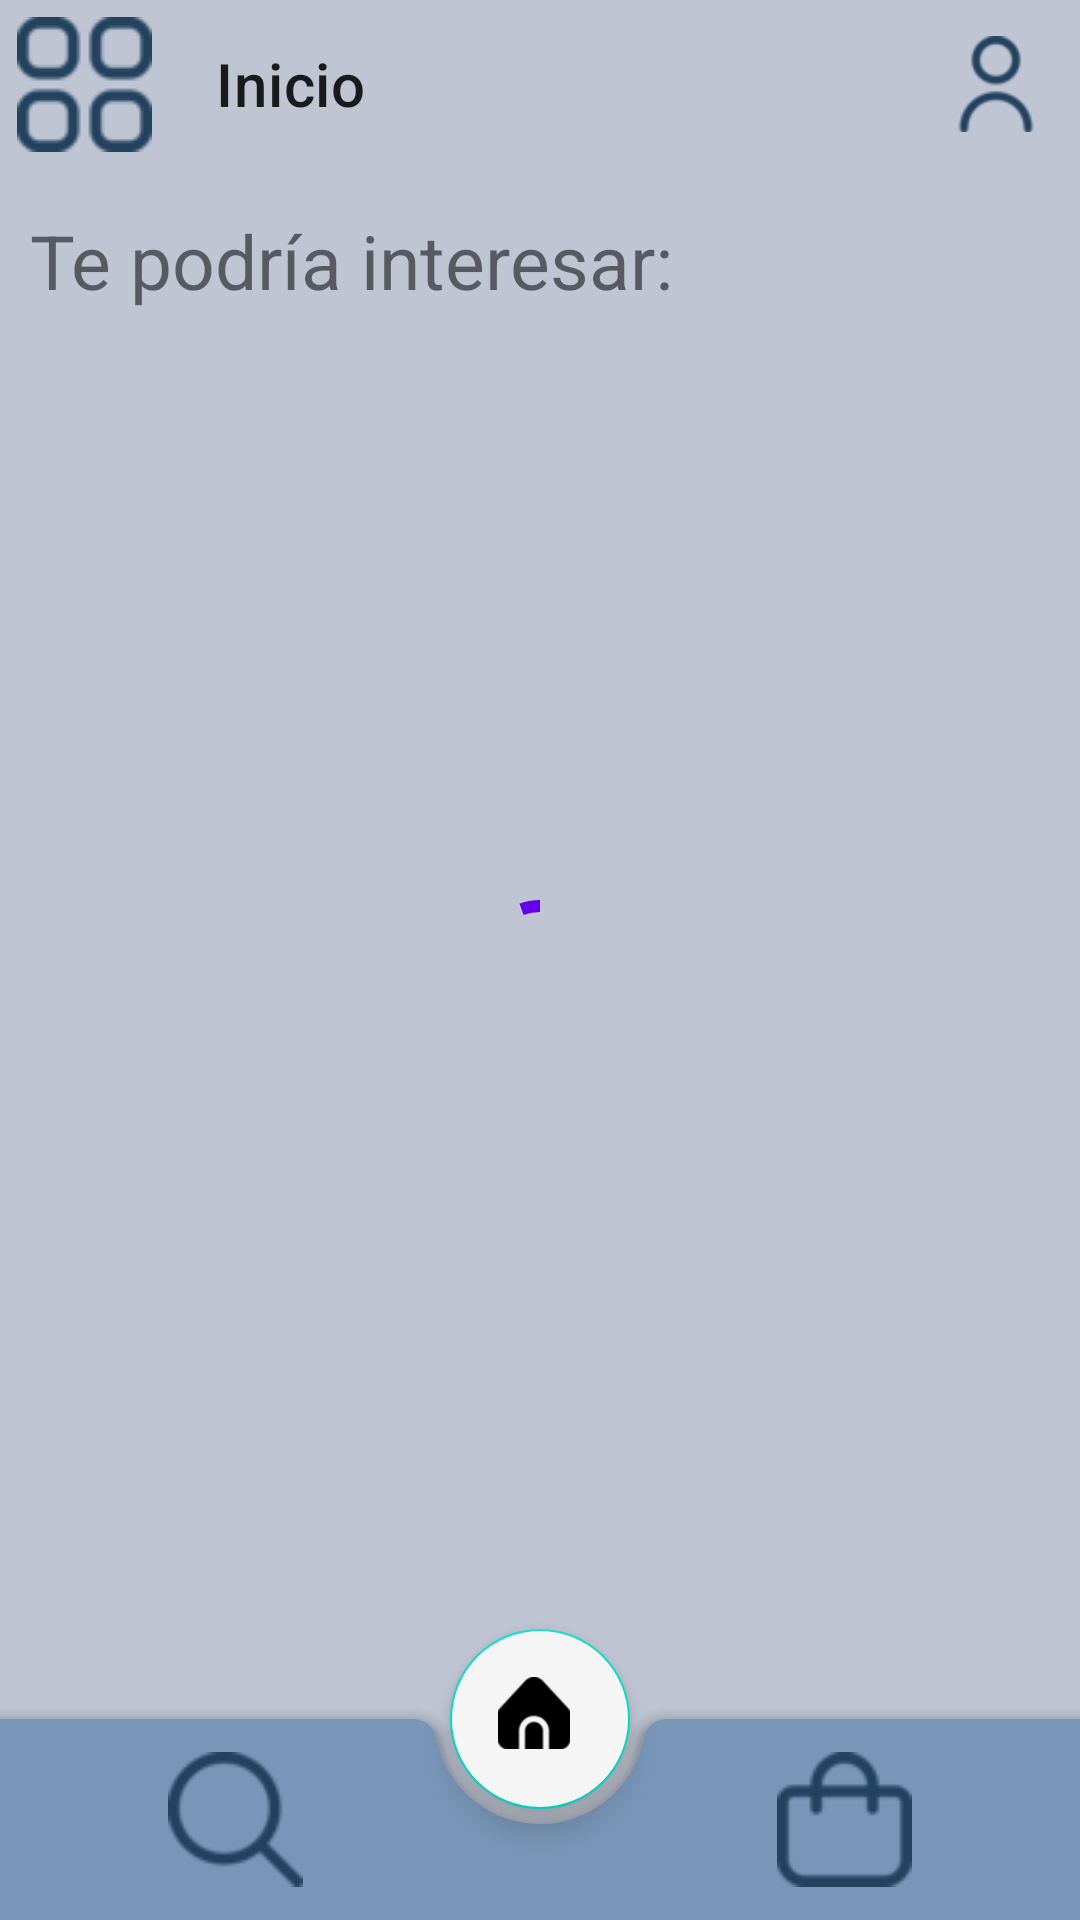

Named icons in this screenshot (1080w x 1920h) and their centers, point (x, y):
Artículos: point (844, 1819)
Inicio: point (540, 1719)
